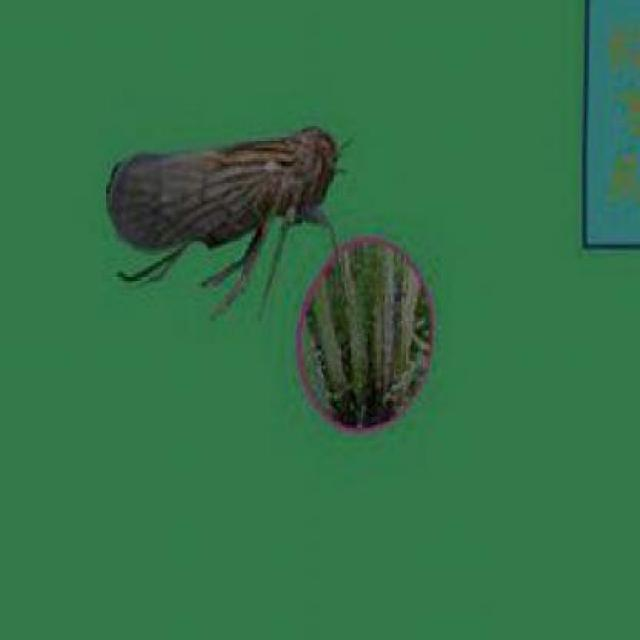brown-planthopper: (108, 128, 343, 254)
